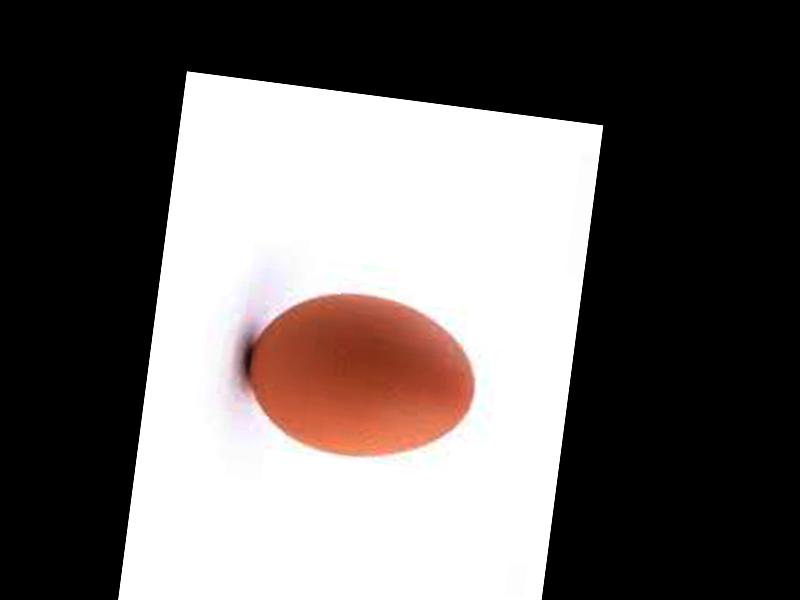Eggs: (240, 279, 484, 470)
